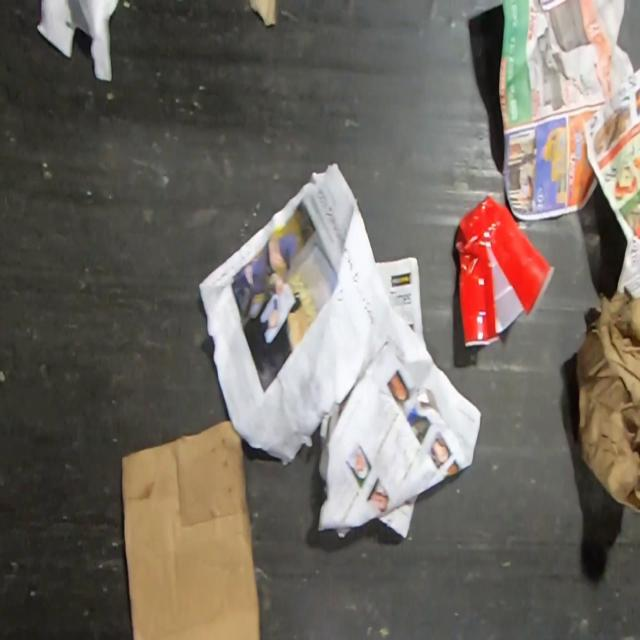cardboard: (121, 416, 262, 640), (247, 0, 278, 27)
rigid_plastic: (453, 193, 556, 349)
